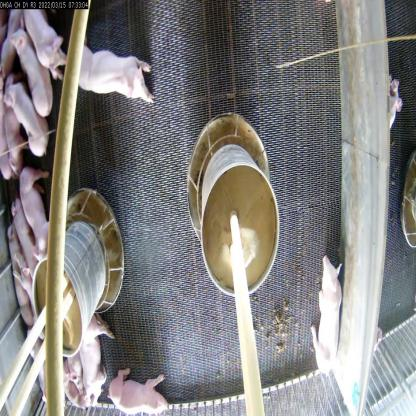Pig: (66, 31, 153, 106), (72, 310, 120, 415), (16, 0, 65, 76), (316, 251, 345, 367), (4, 80, 43, 164), (11, 30, 50, 103), (18, 169, 53, 249), (3, 216, 28, 300), (109, 373, 158, 415), (9, 202, 39, 266), (18, 248, 41, 308)
